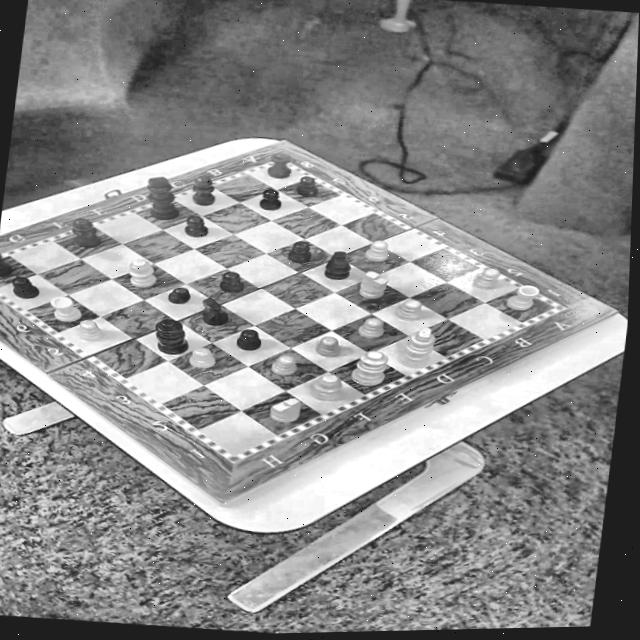chessboard: (0, 162, 552, 454)
